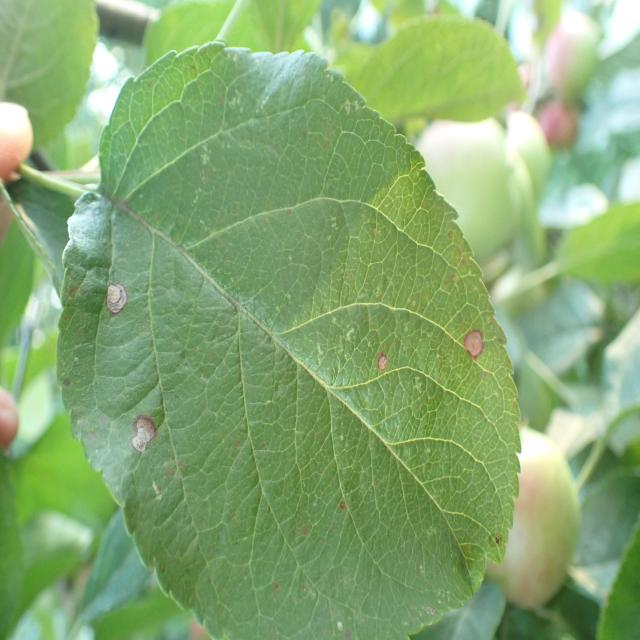Black Rot: (91, 257, 138, 351), (114, 401, 172, 458), (462, 308, 494, 386), (370, 332, 396, 394)
